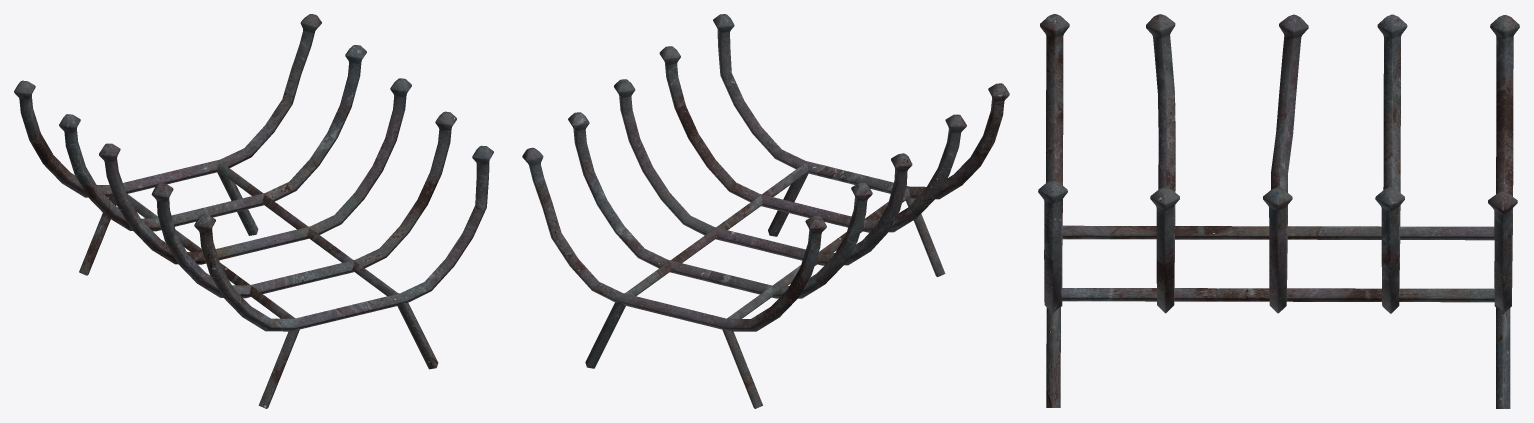
File: SM_FireplaceDetailB.FBX
3 views of the same model, side by side, from view 1: azimuth 30°, elevation 25°; view 2: azimuth 150°, elevation 25°; view 3: azimuth 270°, elevation 25° (orthographic). The views are drawn at different scales.
Visible parts, largest first — view 1: SM_FireplaceDetail; view 2: SM_FireplaceDetail; view 3: SM_FireplaceDetail.
Boxes of the visible parts, x1,y1,x2,y2 form: SM_FireplaceDetail: (14, 14, 493, 408); SM_FireplaceDetail: (522, 14, 1009, 408); SM_FireplaceDetail: (1038, 14, 1519, 408).
Size of the model in its own units: 33.15 by 21.54 by 36.33.
